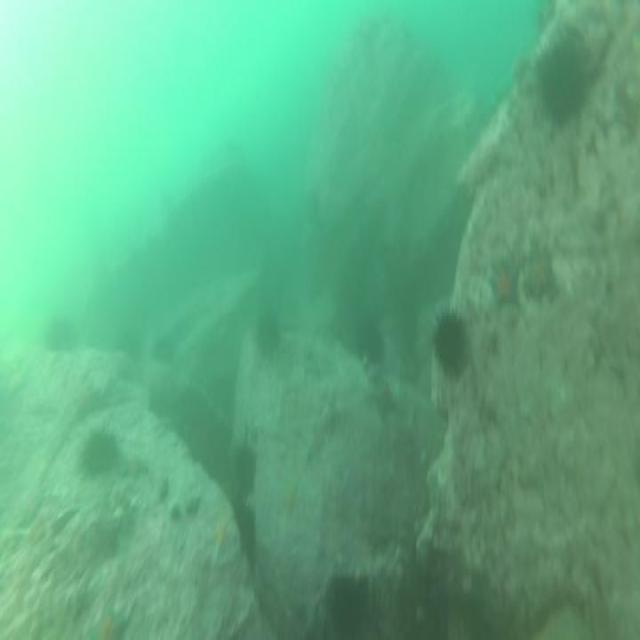echinus: (527, 28, 591, 136), (322, 565, 374, 640), (428, 305, 471, 384), (76, 423, 121, 482), (252, 305, 286, 360), (353, 313, 387, 367), (39, 313, 77, 359), (233, 501, 258, 567), (234, 447, 260, 501), (149, 330, 177, 370)
starfish: (516, 234, 560, 310), (484, 248, 526, 315), (365, 374, 401, 420), (89, 605, 133, 640), (206, 515, 236, 564)
